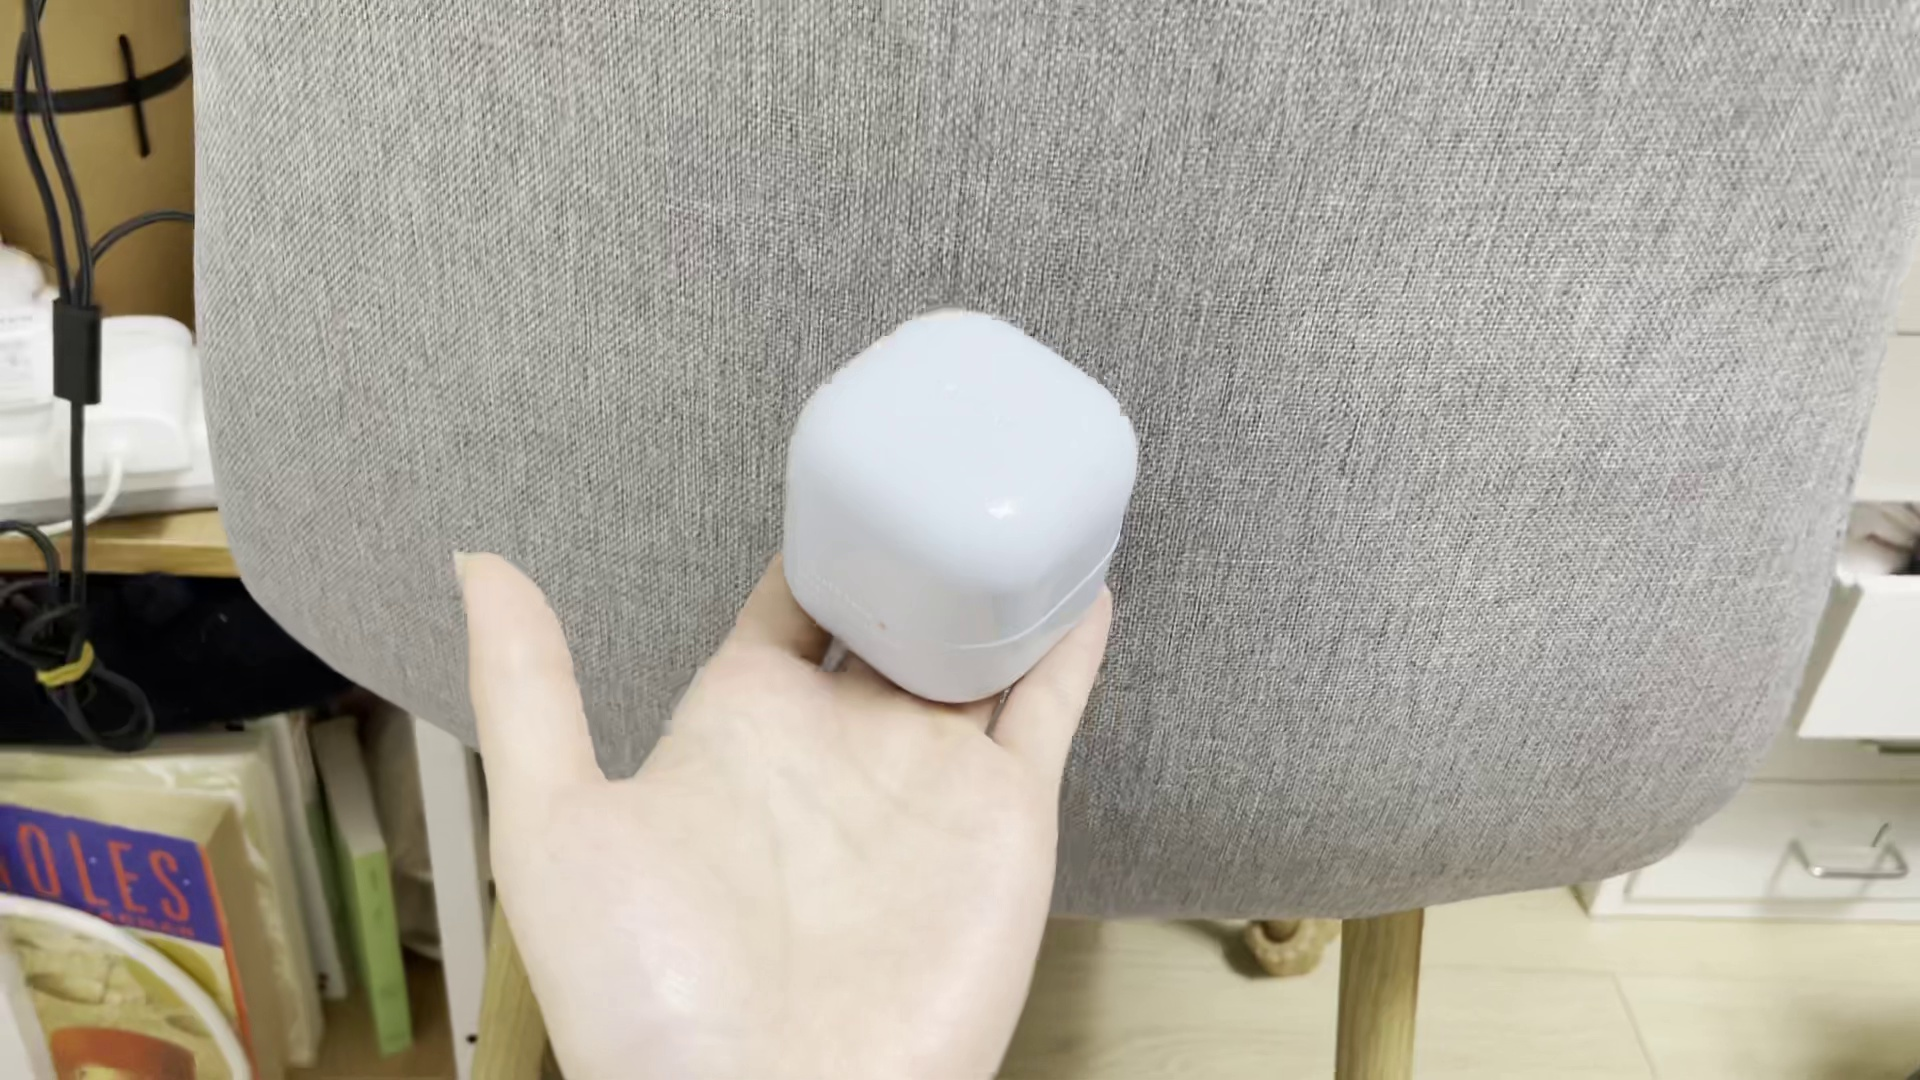cream: (789, 305, 1131, 702)
